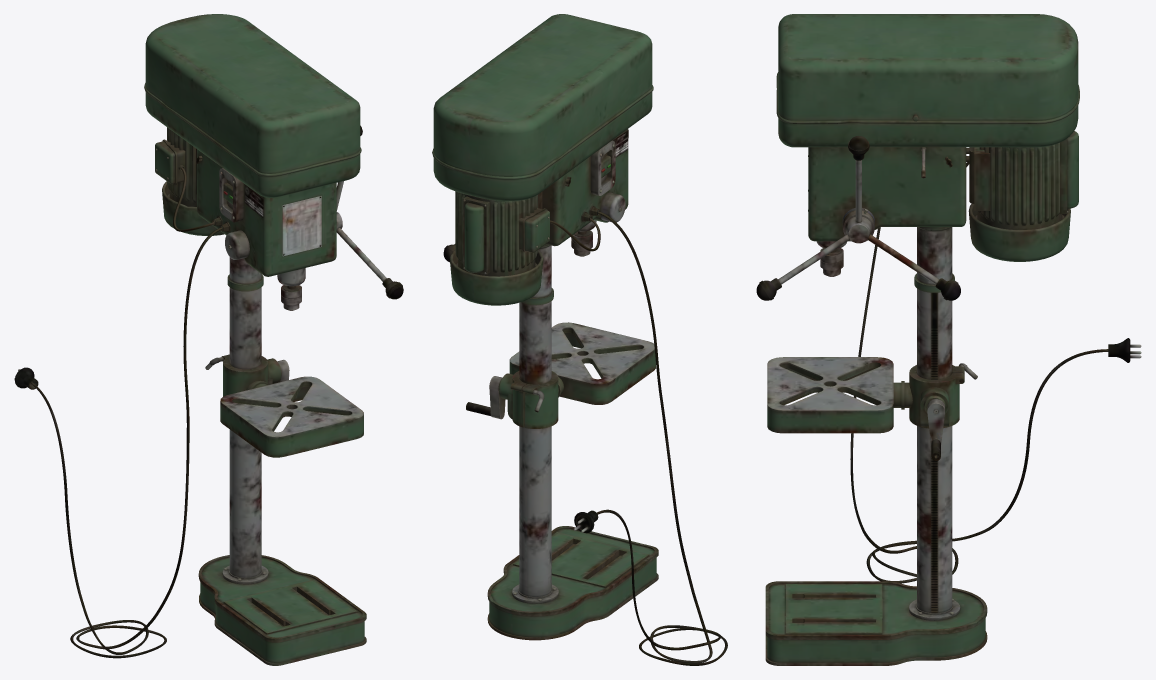
File: old_drill_press.glb
3 renders of one model, left to right at view 1: azimuth 30°, elevation 25°; view 2: azimuth 150°, elevation 25°; view 3: azimuth 270°, elevation 25°, orthographic. The views are drawn at different scales.
Visible parts, largest first — view 1: old_drill_press, old_drill_press_cable; view 2: old_drill_press, old_drill_press_cable; view 3: old_drill_press, old_drill_press_cable.
Part boxes in pixels (x1,y1,x2,y2): old_drill_press: [144, 14, 403, 665]; old_drill_press_cable: [14, 167, 222, 658]; old_drill_press: [432, 14, 658, 640]; old_drill_press_cable: [550, 211, 727, 665]; old_drill_press: [756, 14, 1079, 665]; old_drill_press_cable: [850, 162, 1141, 583].
Bounding box in the file's own units: 0.5272 × 1.05 × 0.6095.
1 material, 1 textured.
